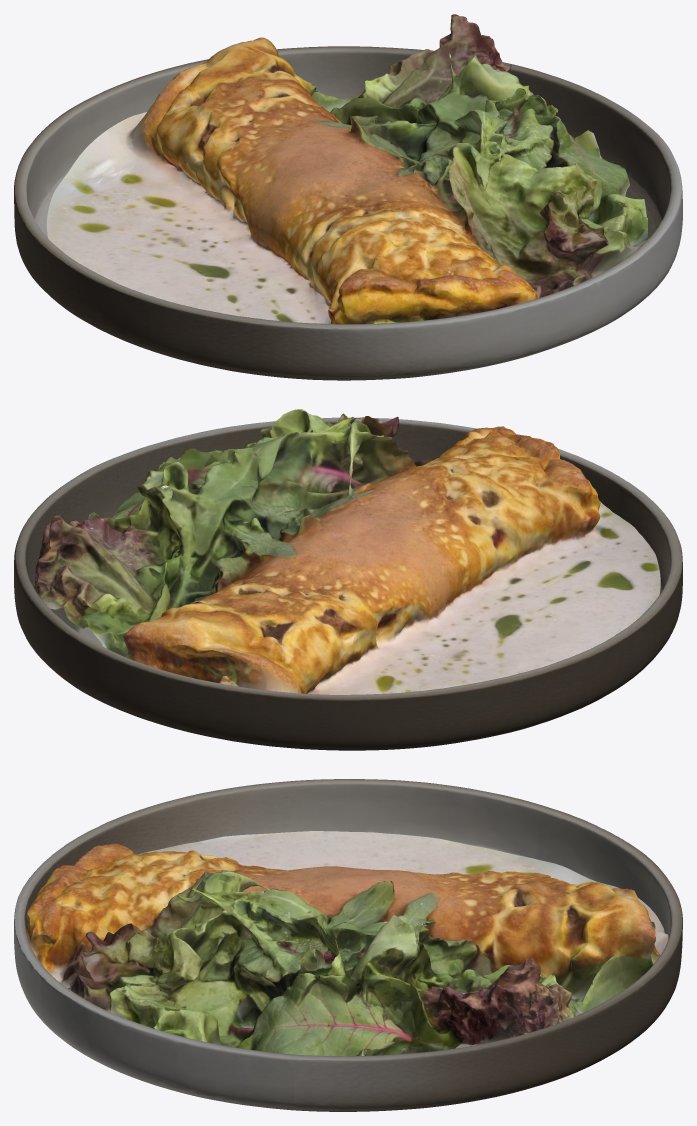
Rendered from omlet.with.salmon.asli001.glb.
The picture shows the model from 3 angles, top to bottom: view 1: azimuth 30°, elevation 25°; view 2: azimuth 150°, elevation 25°; view 3: azimuth 270°, elevation 25°; orthographic projection.
Visible parts, largest first — view 1: /Root/Scenes/Scene/Object_1418/Object_1419/Submesh_0, /Root/Scenes/Scene/Object_1418/Object_1422/Object_1423/Subme; view 2: /Root/Scenes/Scene/Object_1418/Object_1419/Submesh_0, /Root/Scenes/Scene/Object_1418/Object_1422/Object_1423/Subme; view 3: /Root/Scenes/Scene/Object_1418/Object_1419/Submesh_0, /Root/Scenes/Scene/Object_1418/Object_1422/Object_1423/Subme.
Boxes of the visible parts, x1,y1,x2,y2 form: /Root/Scenes/Scene/Object_1418/Object_1419/Submesh_0: (46,14,647,324); /Root/Scenes/Scene/Object_1418/Object_1422/Object_1423/Subme: (14,46,682,380); /Root/Scenes/Scene/Object_1418/Object_1419/Submesh_0: (34,409,660,694); /Root/Scenes/Scene/Object_1418/Object_1422/Object_1423/Subme: (14,417,682,750); /Root/Scenes/Scene/Object_1418/Object_1419/Submesh_0: (26,831,668,1056); /Root/Scenes/Scene/Object_1418/Object_1422/Object_1423/Subme: (14,779,682,1111).
Bounding box in the file's own units: 0.255 × 0.0602 × 0.2551.
Materials: 2 (2 with a texture image).
